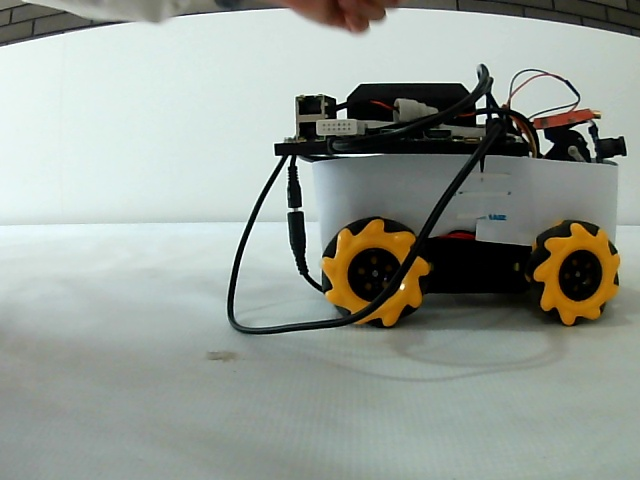car: (292, 83, 619, 328)
paper: (314, 161, 616, 217)
